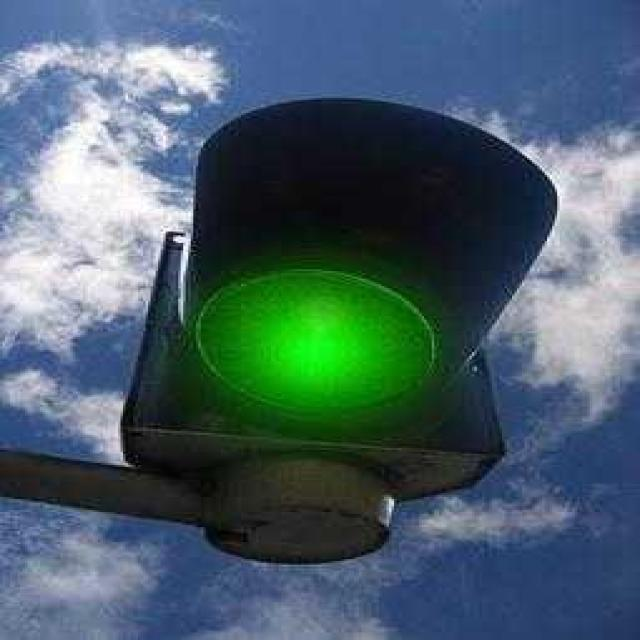Traffic Light -Green-: (142, 98, 571, 525)
